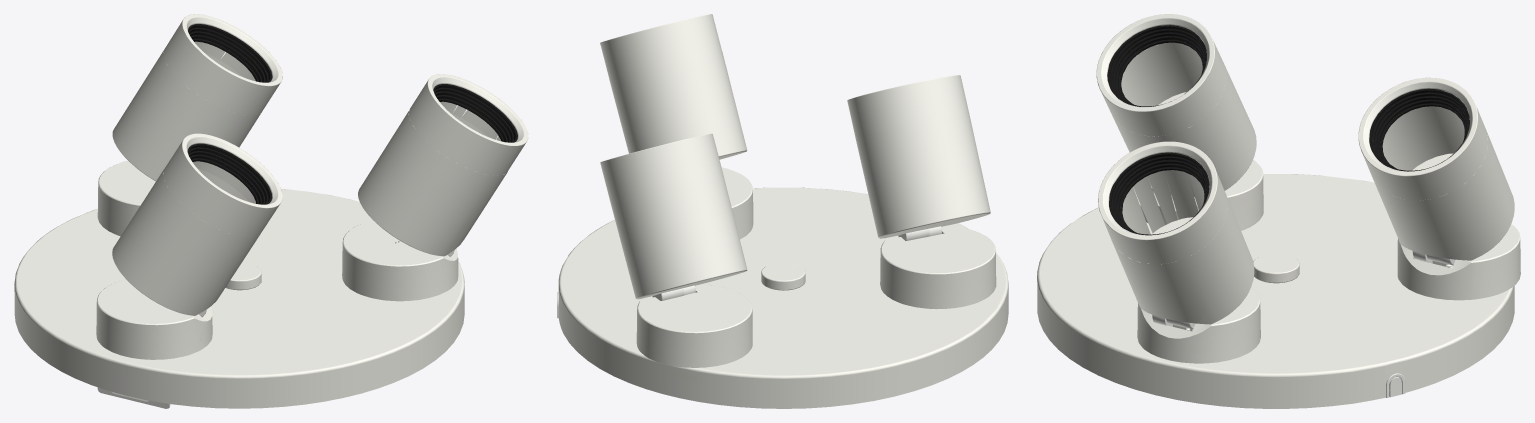
The model's file is nymane_lampa_sufitowa_3_reflektory_00336267.glb.
The picture shows the model from 3 angles, left to right: view 1: azimuth 30°, elevation 25°; view 2: azimuth 150°, elevation 25°; view 3: azimuth 270°, elevation 25°; orthographic projection. The views are drawn at different scales.
Parts seen in each view (by area): view 1: nymane_lampa_sufitowa_3_reflektory_00336267; view 2: nymane_lampa_sufitowa_3_reflektory_00336267; view 3: nymane_lampa_sufitowa_3_reflektory_00336267.
Part boxes in pixels (x1,y1,x2,y2): nymane_lampa_sufitowa_3_reflektory_00336267: [14, 14, 528, 408]; nymane_lampa_sufitowa_3_reflektory_00336267: [557, 14, 1008, 408]; nymane_lampa_sufitowa_3_reflektory_00336267: [1037, 14, 1520, 408].
Size of the model in its own units: 0.2736 by 0.1499 by 0.2552.
Materials: 1 (1 with a texture image).
